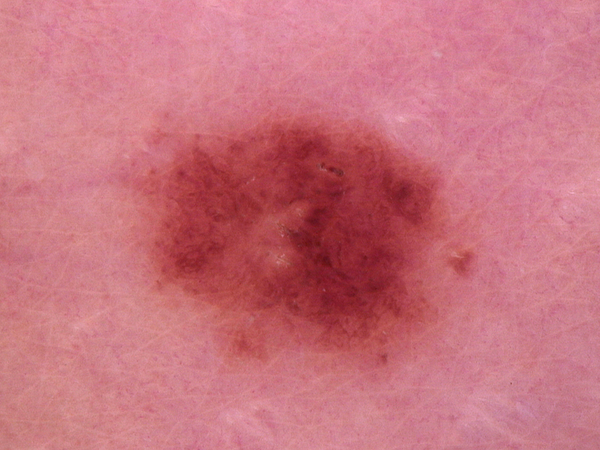Detected Lesion: (125, 123, 485, 378)
